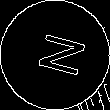N_W: (25, 29, 85, 81)
